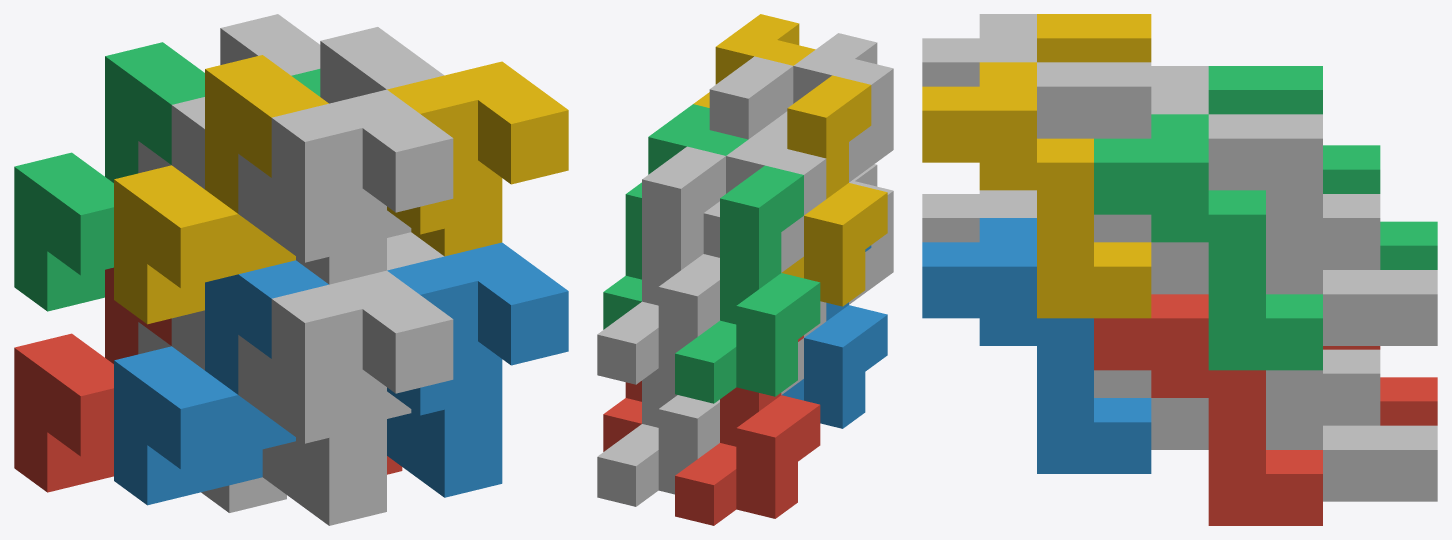
File: tiling.obj
The picture shows the model from 3 angles, left to right: view 1: azimuth 30°, elevation 25°; view 2: azimuth 150°, elevation 25°; view 3: azimuth 270°, elevation 25°; orthographic projection. The views are drawn at different scales.
Parts seen in each view (by area): view 1: copy_2_domain_2, copy_2_domain_4, copy_1_domain_4, copy_1_domain_2, copy_2_domain_6, copy_1_domain_3, copy_2_domain_8, copy_1_domain_1, copy_1_domain_8, copy_1_domain_7, copy_2_domain_1, copy_2_domain_3 (+1 smaller); view 2: copy_1_domain_3, copy_1_domain_7, copy_1_domain_4, copy_1_domain_1, copy_1_domain_5, copy_1_domain_2, copy_2_domain_4, copy_2_domain_7, copy_2_domain_3, copy_1_domain_8, copy_2_domain_8, copy_2_domain_2 (+2 smaller); view 3: copy_1_domain_7, copy_2_domain_7, copy_2_domain_8, copy_2_domain_6, copy_2_domain_5, copy_1_domain_5, copy_1_domain_8, copy_1_domain_3, copy_2_domain_4, copy_1_domain_4, copy_1_domain_6, copy_2_domain_2 (+2 smaller).
Boxes of the visible parts, x1,y1,x2,y2 form: copy_2_domain_2: [238, 270, 453, 525]; copy_2_domain_4: [238, 89, 453, 284]; copy_1_domain_4: [114, 55, 328, 324]; copy_1_domain_2: [114, 260, 328, 505]; copy_2_domain_6: [387, 242, 568, 497]; copy_1_domain_3: [14, 42, 204, 311]; copy_2_domain_8: [387, 61, 568, 256]; copy_1_domain_1: [14, 267, 171, 492]; copy_1_domain_8: [320, 27, 444, 237]; copy_1_domain_7: [220, 14, 320, 75]; copy_2_domain_1: [138, 310, 286, 512]; copy_2_domain_3: [138, 97, 204, 189]; copy_1_domain_3: [675, 165, 820, 403]; copy_1_domain_7: [597, 146, 725, 384]; copy_1_domain_4: [782, 75, 887, 306]; copy_1_domain_1: [675, 335, 820, 525]; copy_1_domain_5: [597, 368, 719, 506]; copy_1_domain_2: [781, 245, 887, 428]; copy_2_domain_4: [771, 33, 893, 182]; copy_2_domain_7: [603, 104, 747, 329]; copy_2_domain_3: [703, 123, 826, 272]; copy_1_domain_8: [709, 56, 793, 139]; copy_2_domain_8: [693, 14, 815, 107]; copy_2_domain_2: [849, 164, 893, 304]; copy_1_domain_7: [1208, 114, 1437, 345]; copy_2_domain_7: [1094, 114, 1322, 370]; copy_2_domain_8: [922, 62, 1151, 318]; copy_2_domain_6: [922, 218, 1151, 473]; copy_2_domain_5: [1094, 294, 1322, 525]; copy_1_domain_5: [1266, 349, 1437, 501]; copy_1_domain_8: [1037, 62, 1208, 294]; copy_1_domain_3: [1208, 66, 1437, 269]; copy_2_domain_4: [922, 14, 1036, 86]; copy_1_domain_4: [1037, 14, 1151, 62]; copy_1_domain_6: [1094, 370, 1208, 449]; copy_2_domain_2: [922, 190, 1036, 242].
Bounding box in the file's own units: 5 × 8 × 9.
